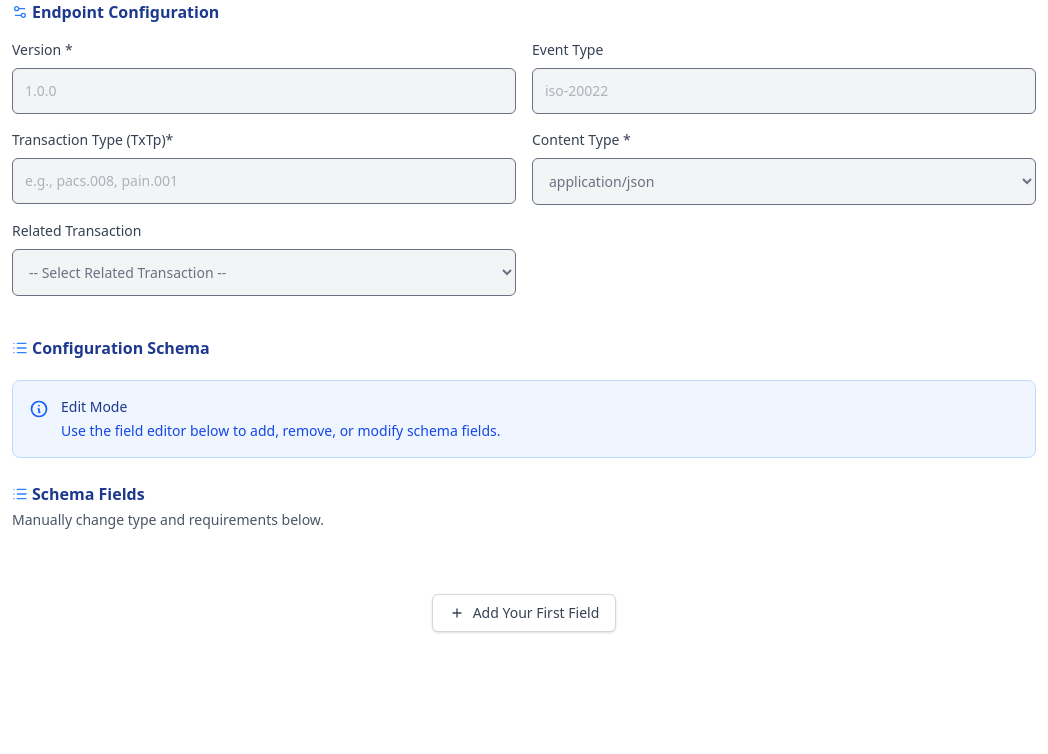
Test: shared/components/PayloadEditor.tsx › supports edit mode and manual field creation
Click the button "Add Your First Field".
click(524, 613)  # box [432,594,616,632]
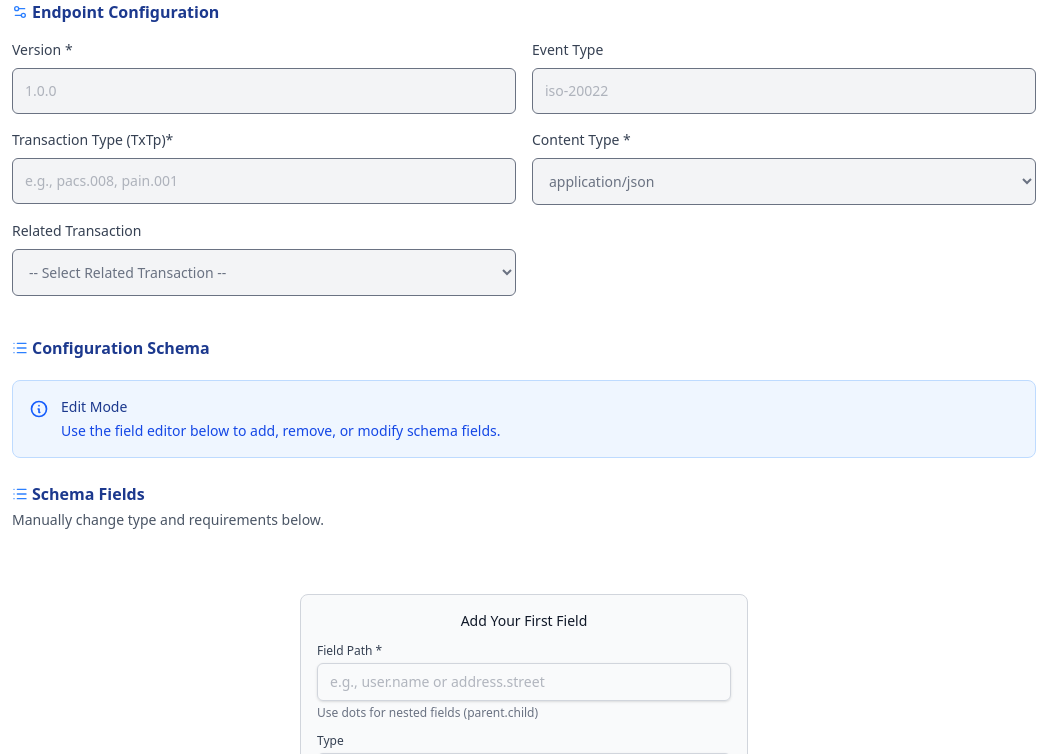
Type "user.id" into the field labelled "Field Path *".
click(524, 682); type("user.id")  # box [317,663,731,701]
(page scrolled)
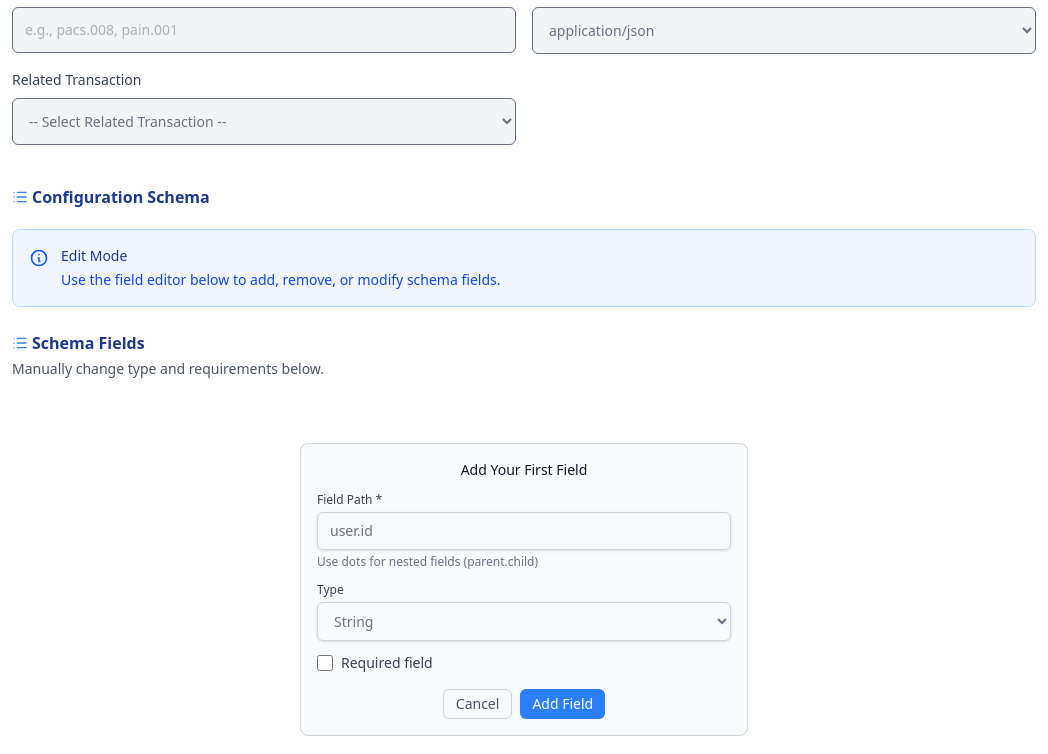
Click the button "Add Field".
click(563, 704)  # box [520,689,605,719]
(page scrolled)
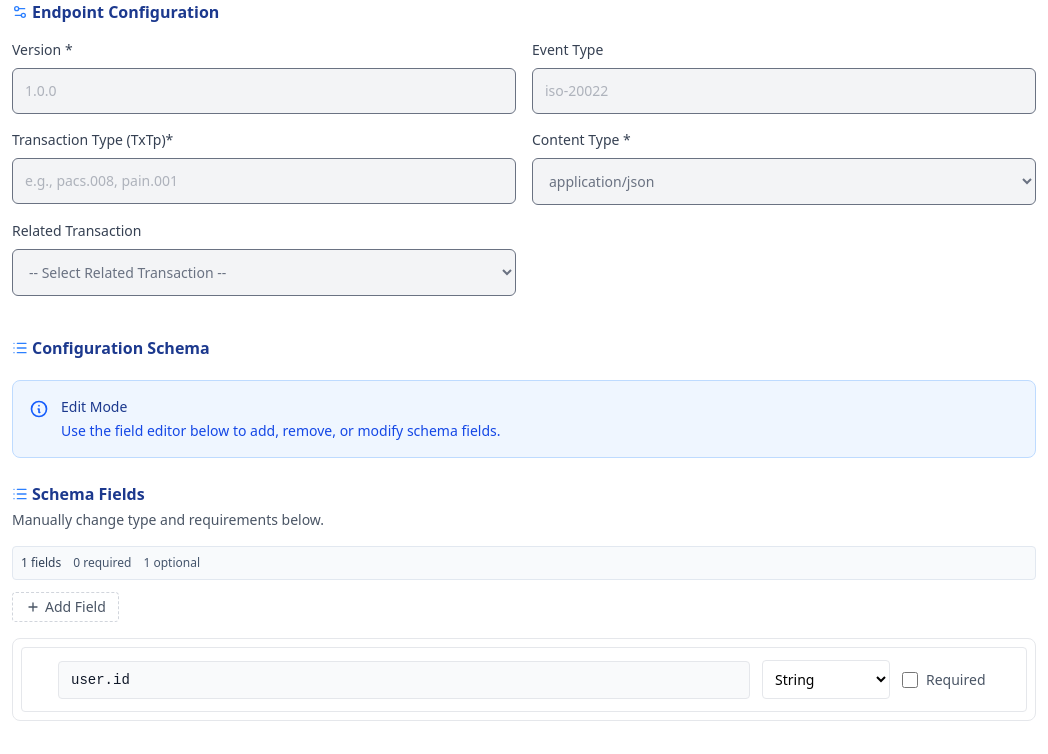
Expected: the field showing "user.id" is shown, [58,660,750,698]
